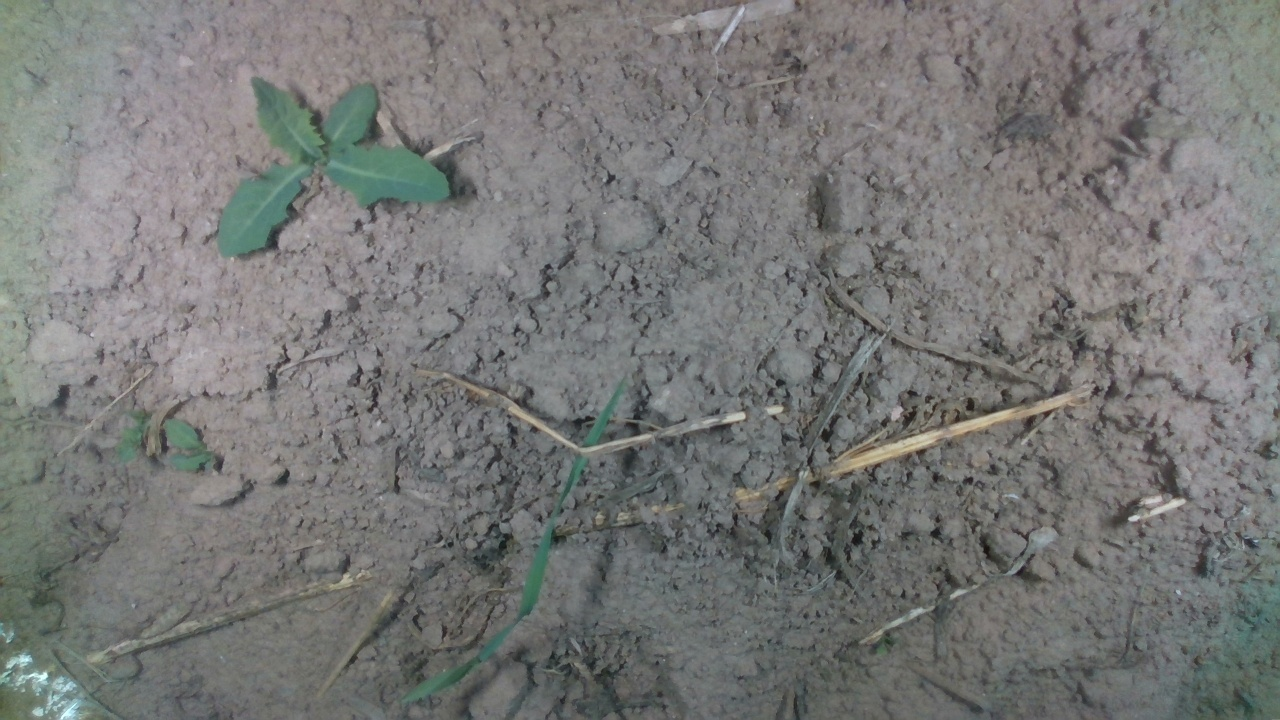weed: (215, 76, 454, 259)
